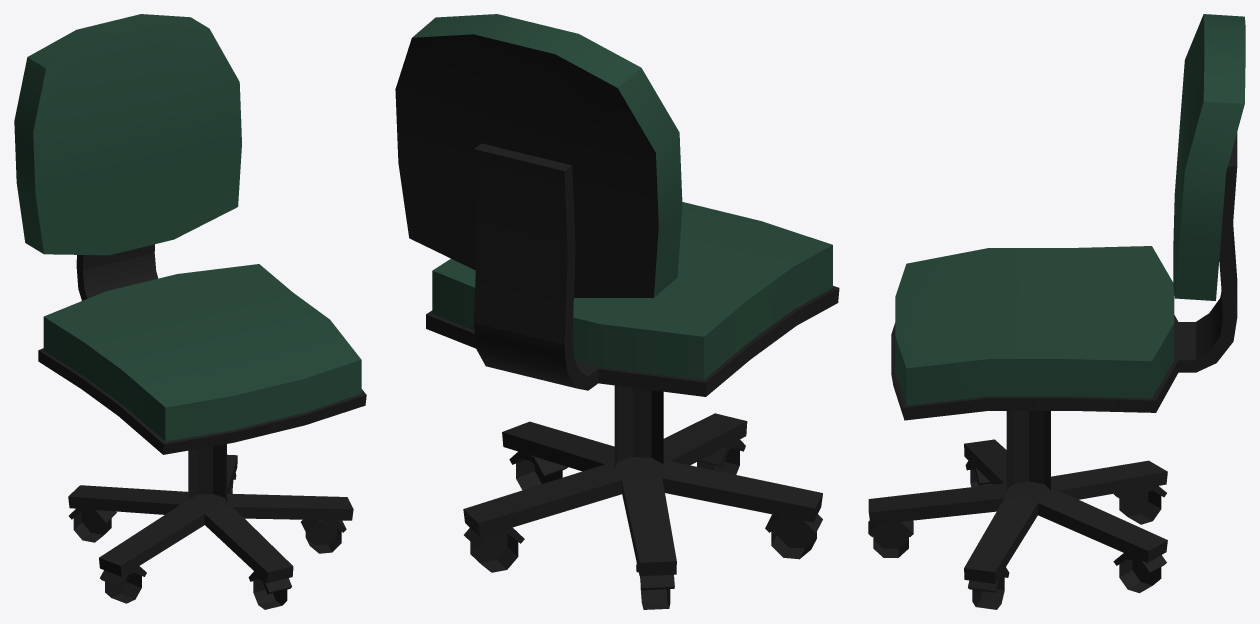
The model's file is Chair.fbx.
3 views of the same model, side by side, from view 1: azimuth 30°, elevation 25°; view 2: azimuth 150°, elevation 25°; view 3: azimuth 270°, elevation 25° (orthographic). The views are drawn at different scales.
Visible parts, largest first — view 1: Chair; view 2: Chair; view 3: Chair.
Boxes of the visible parts, x1,y1,x2,y2 form: Chair: (14,14,366,609); Chair: (395,14,839,609); Chair: (868,14,1245,609).
Bounding box in the file's own units: 114 × 205 × 137.
